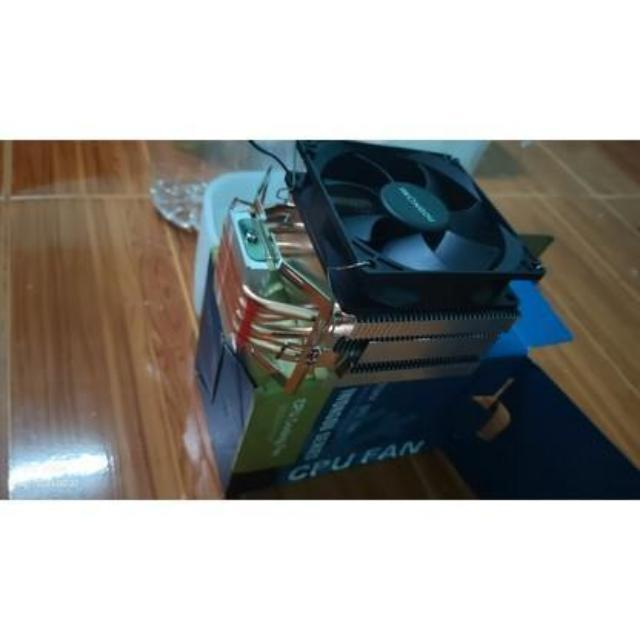CPU_Fan: (187, 129, 562, 497)
